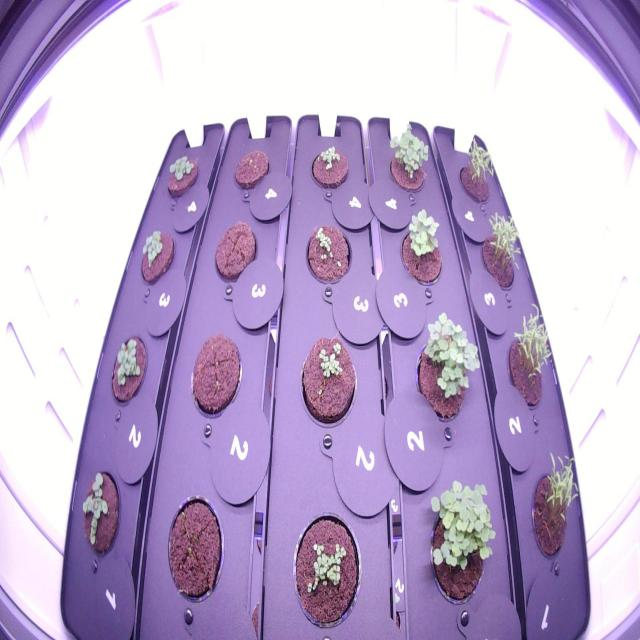germination: (286, 506, 368, 635), (420, 471, 496, 610), (406, 309, 486, 434), (294, 328, 362, 434), (528, 444, 584, 570), (503, 295, 558, 414), (474, 205, 527, 302), (76, 464, 126, 566), (396, 204, 448, 294), (380, 118, 433, 199), (298, 217, 355, 292), (105, 328, 150, 411), (454, 133, 499, 210), (135, 218, 178, 288), (306, 136, 355, 192), (162, 144, 202, 202)
pod: (160, 487, 227, 608), (186, 328, 247, 423), (209, 215, 262, 289), (228, 142, 272, 196)
